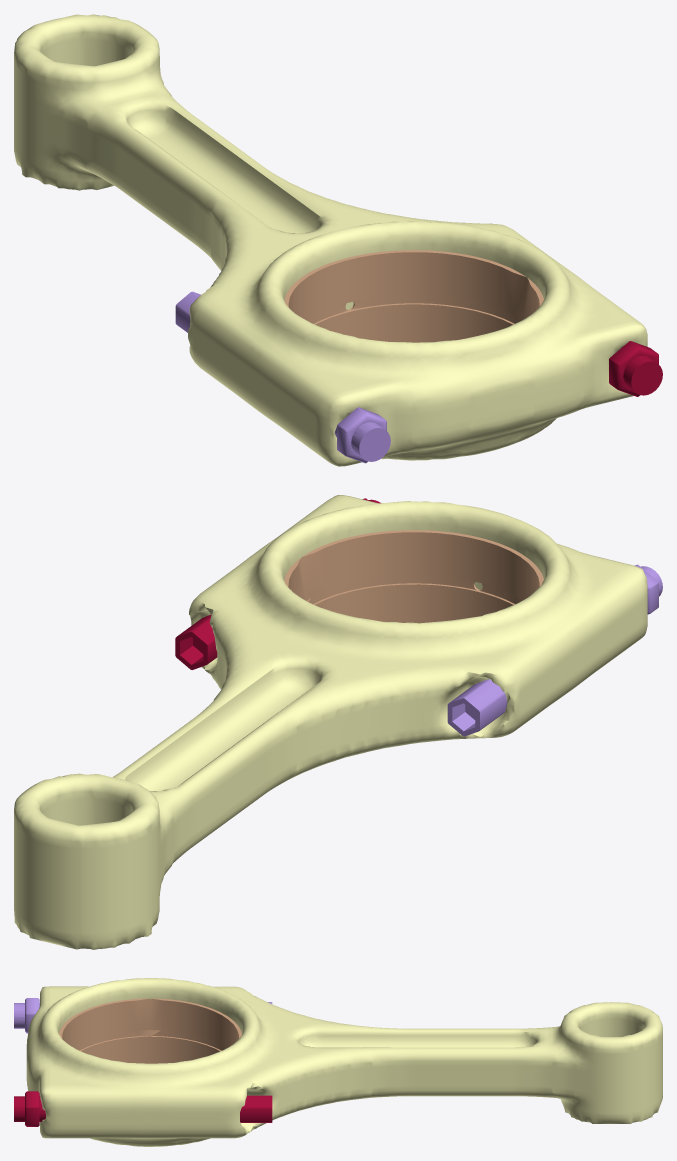
3 renders of one model, top to bottom at view 1: azimuth 30°, elevation 25°; view 2: azimuth 150°, elevation 25°; view 3: azimuth 270°, elevation 25°, orthographic. The views are drawn at different scales.
Visible parts, largest first — view 1: split_parent_0, split_parent_1, split_parent_3, split_parent_2; view 2: split_parent_0, split_parent_1, split_parent_3, split_parent_2; view 3: split_parent_0, split_parent_1, split_parent_2, split_parent_3.
Part boxes in pixels (x1=…): split_parent_0: x1=14, y1=14, x2=647, y2=466; split_parent_1: x1=284, y1=250, x2=544, y2=342; split_parent_3: x1=175, y1=291, x2=390, y2=463; split_parent_2: x1=609, y1=341, x2=662, y2=396; split_parent_0: x1=14, y1=495, x2=647, y2=949; split_parent_1: x1=284, y1=530, x2=543, y2=623; split_parent_3: x1=447, y1=564, x2=662, y2=736; split_parent_2: x1=175, y1=498, x2=380, y2=669; split_parent_0: x1=26, y1=978, x2=662, y2=1146; split_parent_1: x1=59, y1=998, x2=241, y2=1063; split_parent_2: x1=14, y1=1091, x2=272, y2=1126; split_parent_3: x1=14, y1=998, x2=272, y2=1033.
Bounding box in the file's own units: 0.4093 × 0.1421 × 1.
